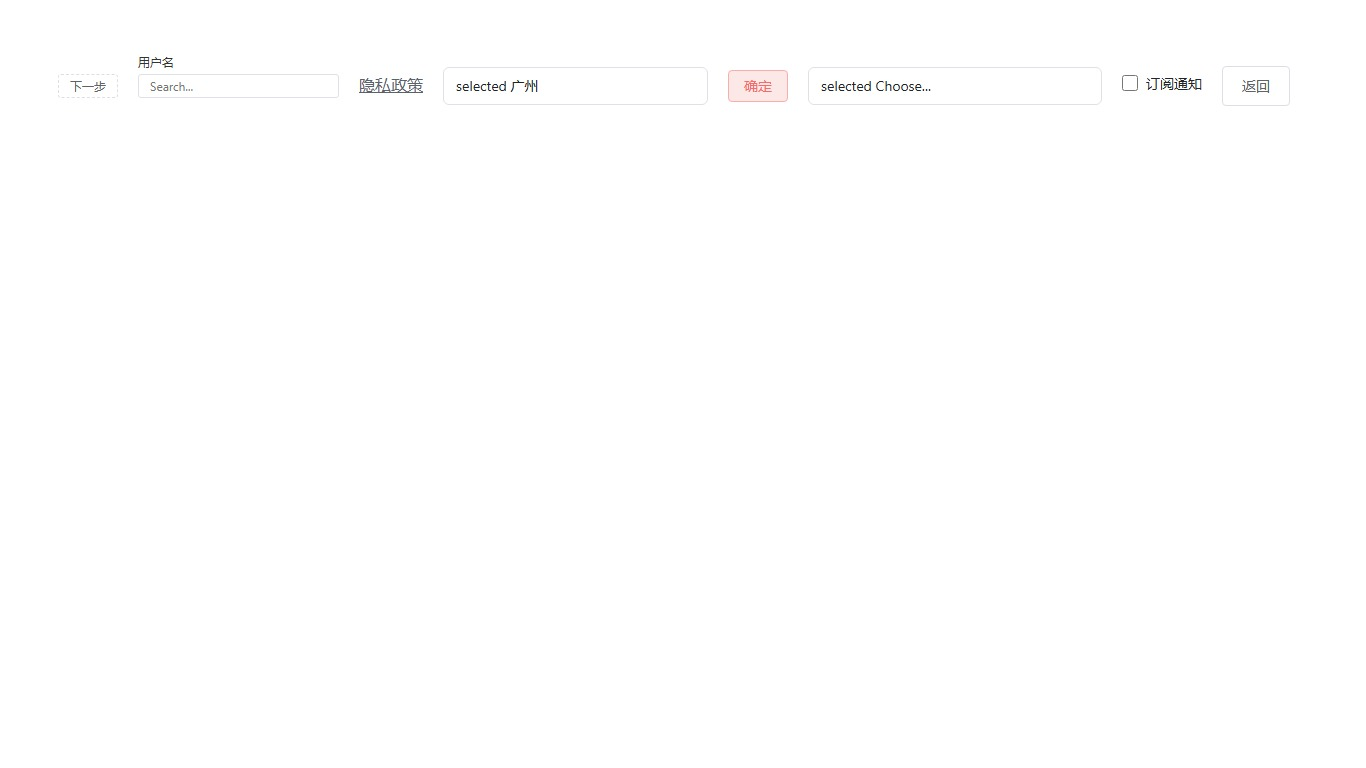button: (1222, 66, 1290, 106), (728, 70, 788, 102), (58, 74, 118, 98)
checkbox: (1122, 75, 1138, 91)
icon: (1146, 73, 1202, 93)
input: (138, 74, 339, 98)
link: (359, 74, 423, 95)
radio: (1122, 73, 1202, 93)
select: (808, 66, 1102, 104), (443, 66, 708, 104)
